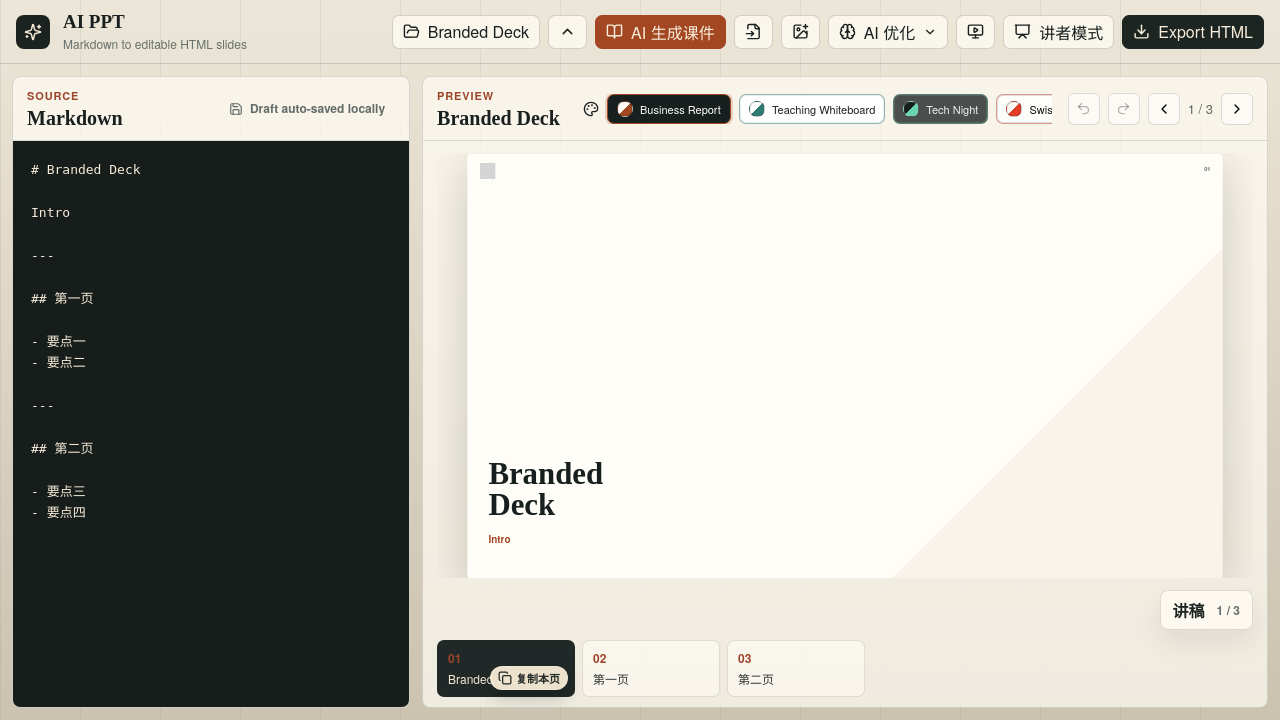
Test: App image insertion controls › opens AI actions and optimizes slide layouts without changing markdown or logo
Click the button with test id "ai-menu-button".
click(888, 32)  # box [828,14,948,48]
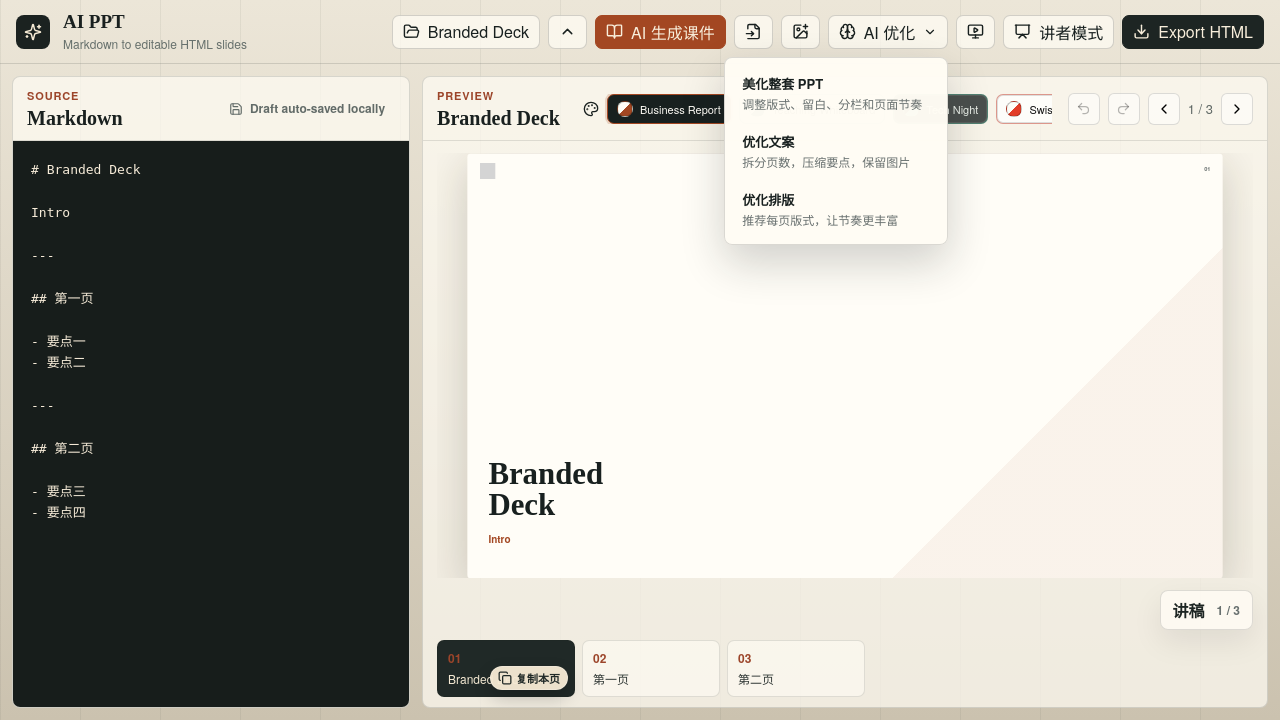
Result: the menu item with test id "ai-optimize-copy" is shown at [731,122,941,180]
Result: the menu item with test id "ai-optimize-layout" is shown
Result: the menu item with test id "ai-beautify-deck" is shown at [731,64,941,122]
Click the menu item with test id "ai-optimize-layout".
click(836, 209)  # box [731,180,941,238]
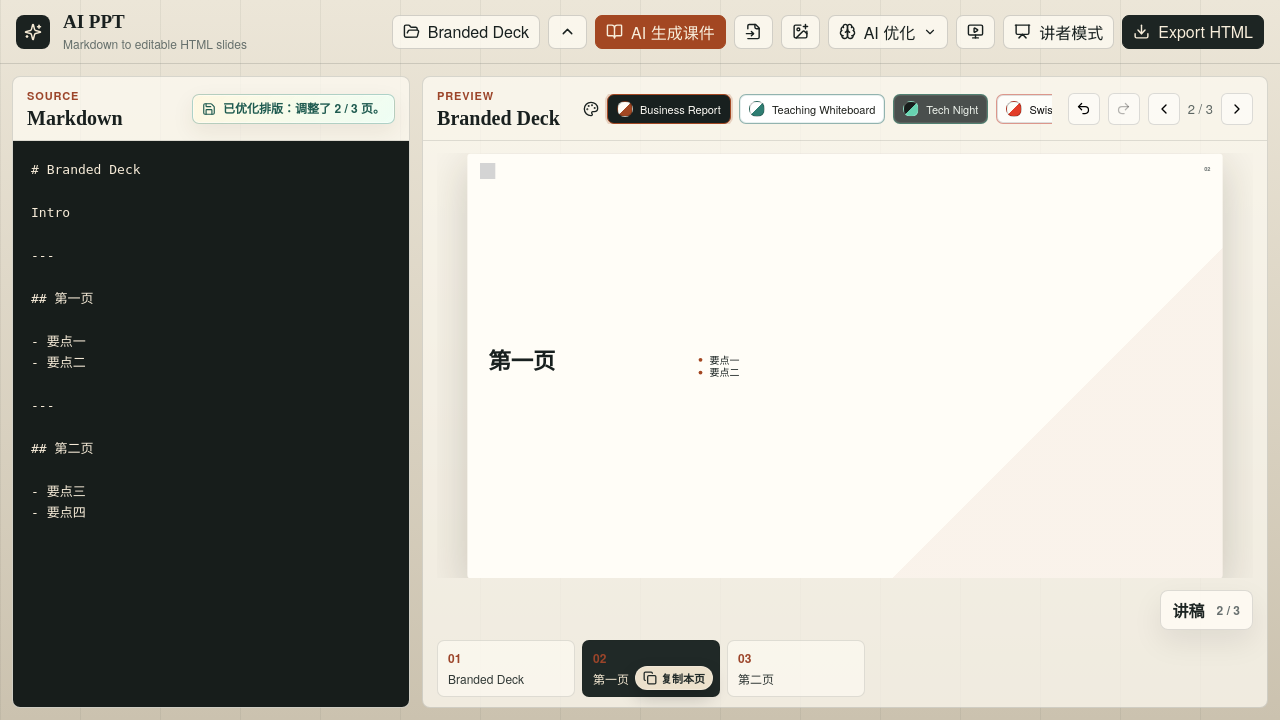
Result: the element with class "status" reads "已优化排版：调整了 2 / 3 页。" at [223,99,385,117]
